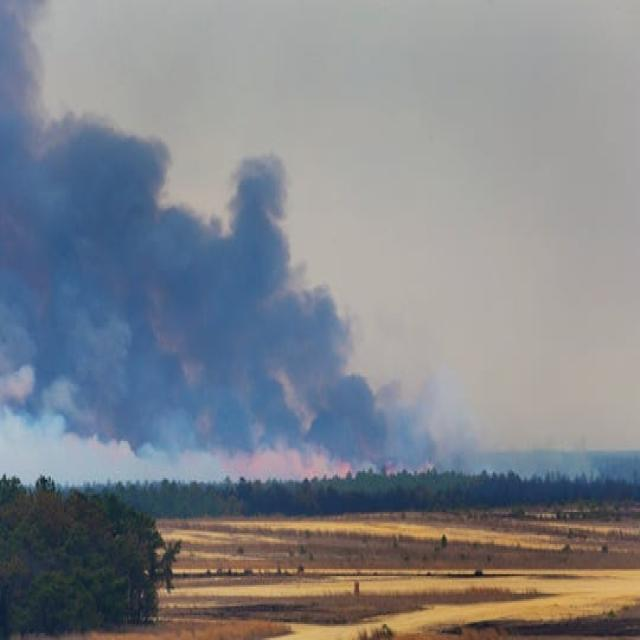Smoke: (1, 6, 497, 478)
